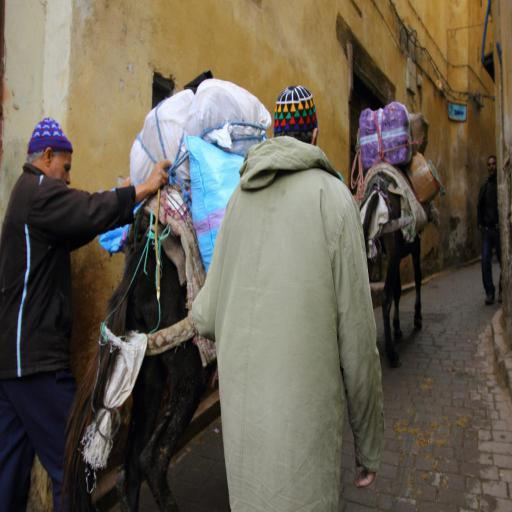horse: (59, 158, 228, 512), (360, 148, 438, 372)
